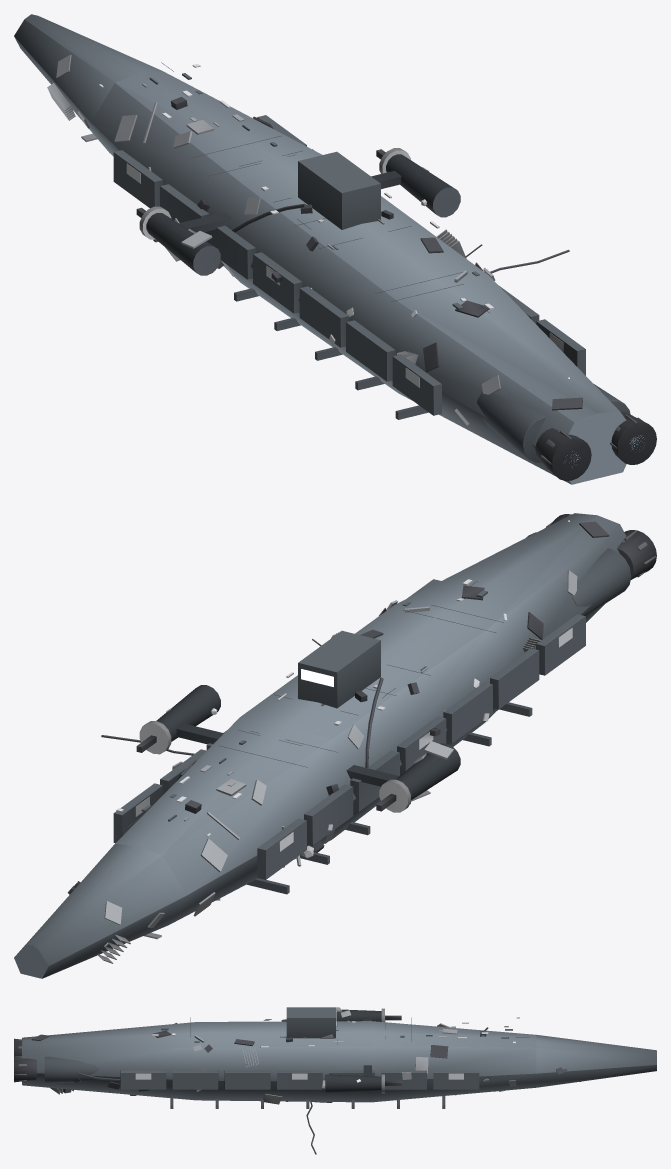
The model's file is capital_talon.glb.
3 renders of one model, top to bottom at view 1: azimuth 30°, elevation 25°; view 2: azimuth 150°, elevation 25°; view 3: azimuth 270°, elevation 25°, orthographic. The views are drawn at different scales.
Visible parts, largest first — view 1: TalonHull, SUB_engine_1, SUB_engine_0; view 2: TalonHull, SUB_engine_1; view 3: TalonHull, SUB_engine_0.
Boxes of the visible parts, x1,y1,x2,y2 form: TalonHull: (14, 14, 626, 484); SUB_engine_1: (477, 391, 591, 480); SUB_engine_0: (593, 383, 656, 464); TalonHull: (14, 513, 626, 978); SUB_engine_1: (571, 530, 656, 616); TalonHull: (22, 1007, 656, 1154); SUB_engine_0: (14, 1056, 99, 1083).
Bounding box in the file's own units: 33.78 × 12.6 × 91.15.
